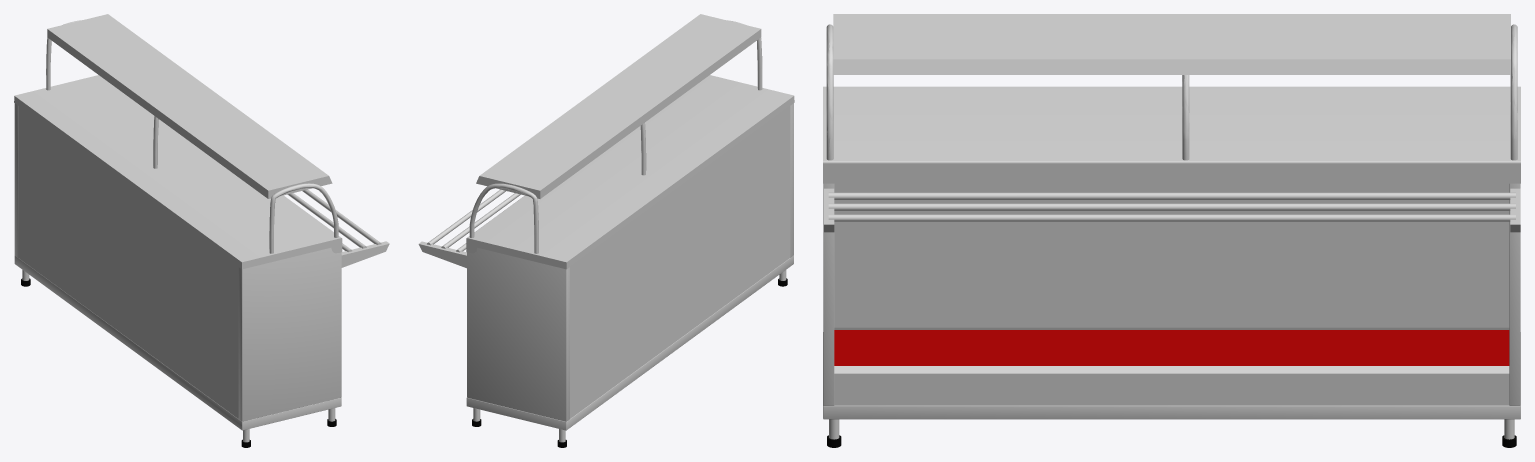
The model's file is KitchenRazdacha01_02b.FBX.
3 renders of one model, left to right at view 1: azimuth 30°, elevation 25°; view 2: azimuth 150°, elevation 25°; view 3: azimuth 270°, elevation 25°, orthographic. The views are drawn at different scales.
Parts seen in each view (by area): view 1: Kitchen02b; view 2: Kitchen02b; view 3: Kitchen02b.
Boxes of the visible parts, box(x1,y1,x2,y2) form: Kitchen02b: box(14, 14, 389, 447); Kitchen02b: box(418, 14, 794, 447); Kitchen02b: box(823, 14, 1520, 447).
Size of the model in its own units: 36.18 by 58.35 by 96.31.
